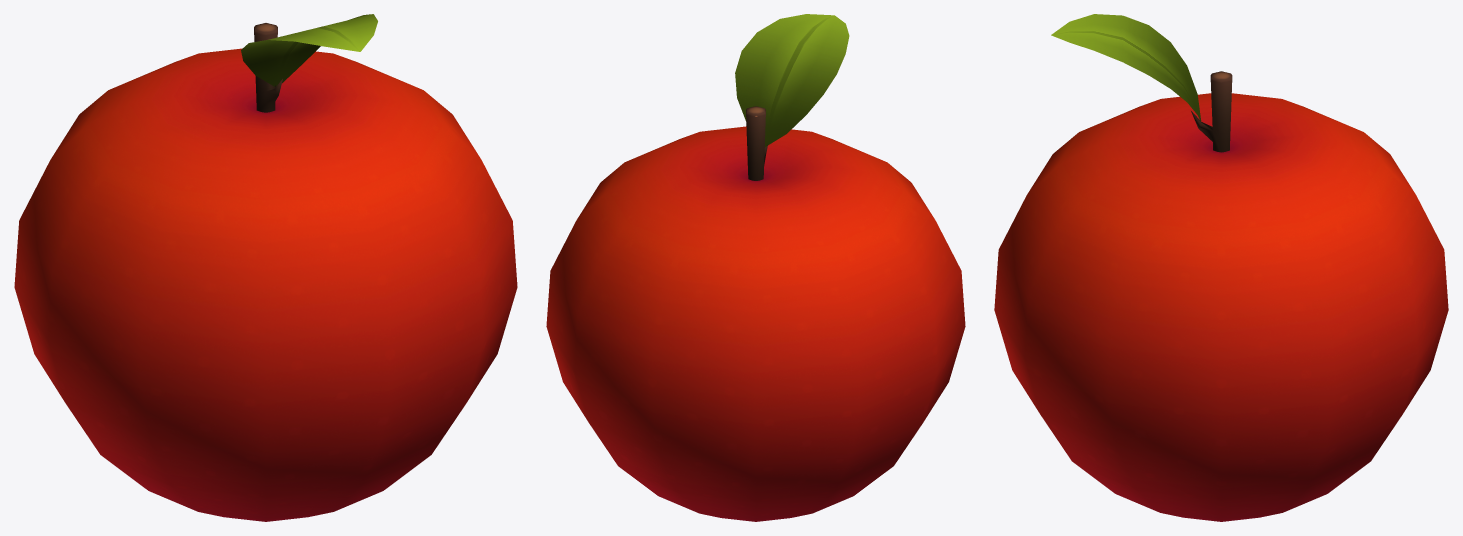
Rendered from apple.FBX.
3 views of the same model, side by side, from view 1: azimuth 30°, elevation 25°; view 2: azimuth 150°, elevation 25°; view 3: azimuth 270°, elevation 25° (orthographic). The views are drawn at different scales.
Parts seen in each view (by area): view 1: sg_apple_whole, sg_apple_leaf_01; view 2: sg_apple_whole, sg_apple_leaf_01; view 3: sg_apple_whole, sg_apple_leaf_01.
Boxes of the visible parts, x1=… form: sg_apple_whole: x1=14, y1=23, x2=517, y2=521; sg_apple_leaf_01: x1=241, y1=14, x2=377, y2=87; sg_apple_whole: x1=546, y1=106, x2=965, y2=521; sg_apple_leaf_01: x1=735, y1=14, x2=849, y2=146; sg_apple_whole: x1=994, y1=71, x2=1448, y2=521; sg_apple_leaf_01: x1=1051, y1=14, x2=1201, y2=121.
Bounding box in the file's own units: 1.66 × 1.88 × 1.66.
1 material, 1 textured.
